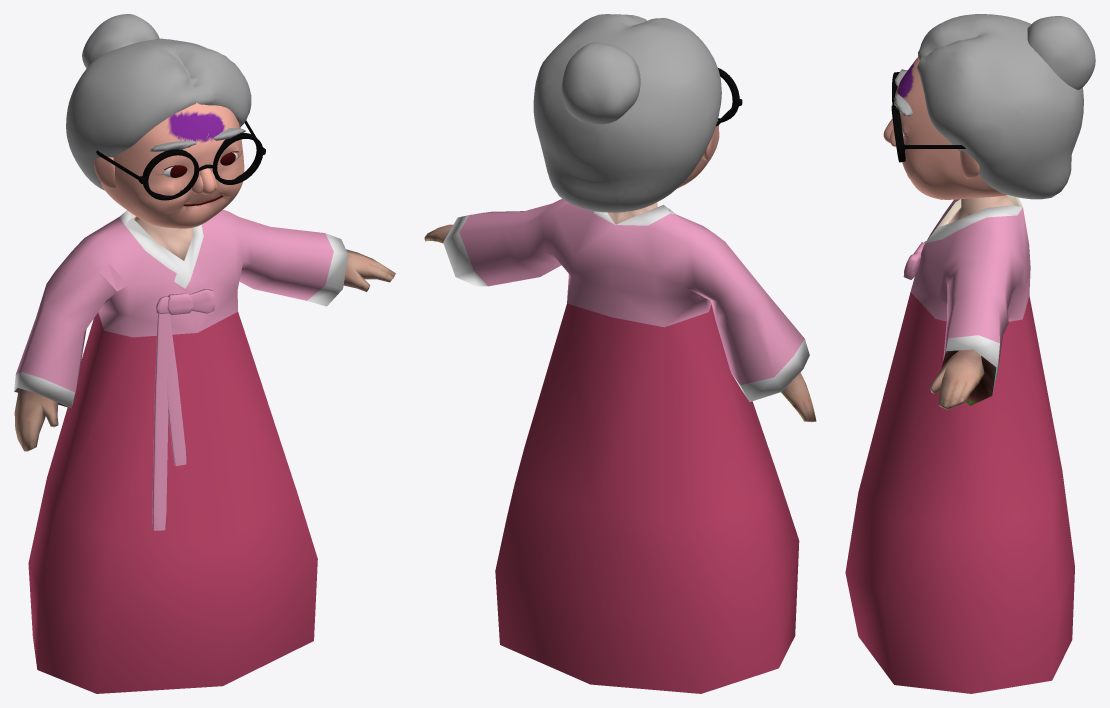
Rendered from Grandma.fbx.
3 views of the same model, side by side, from view 1: azimuth 30°, elevation 25°; view 2: azimuth 150°, elevation 25°; view 3: azimuth 270°, elevation 25° (orthographic). The views are drawn at different scales.
Visible parts, largest first — view 1: Hanbok, Sphere.004, Head, Ribbon, Glasses, Sphere.006, Sphere.005; view 2: Hanbok, Sphere.004, Sphere.006; view 3: Hanbok, Sphere.004, Head, Sphere.006, Glasses.
Boxes of the visible parts, x1,y1,x2,y2 form: Hanbok: (14, 209, 395, 693); Sphere.004: (66, 38, 251, 190); Head: (94, 102, 244, 228); Ribbon: (152, 289, 215, 530); Glasses: (96, 120, 265, 200); Sphere.006: (82, 14, 159, 68); Sphere.005: (149, 128, 245, 152); Hanbok: (424, 198, 816, 693); Sphere.004: (533, 14, 721, 212); Sphere.006: (561, 42, 640, 124); Hanbok: (845, 195, 1074, 693); Sphere.004: (917, 14, 1083, 199); Head: (883, 57, 1007, 199); Sphere.006: (1027, 16, 1095, 89); Glasses: (891, 72, 965, 162).
Bounding box in the file's own units: 69.55 × 108 × 39.4.
Materials: 11 (1 with a texture image).
